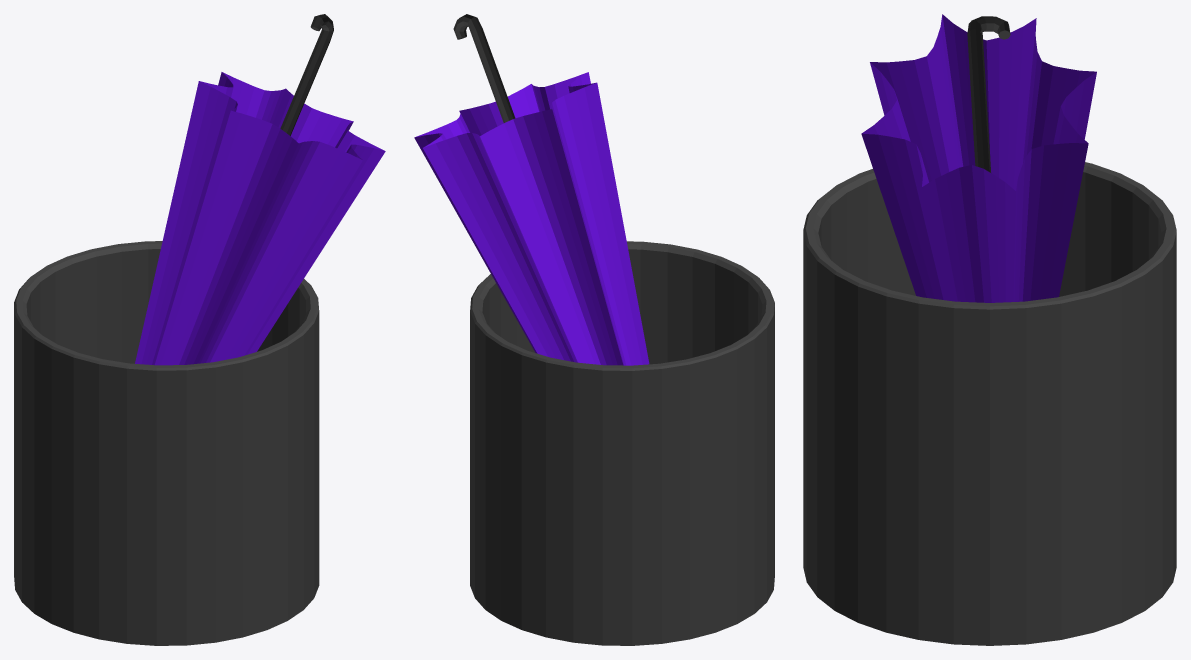
Rendered from GuardaChuva.fbx.
The picture shows the model from 3 angles, left to right: view 1: azimuth 30°, elevation 25°; view 2: azimuth 150°, elevation 25°; view 3: azimuth 270°, elevation 25°; orthographic projection. The views are drawn at different scales.
Visible parts, largest first — view 1: Balde, Guarda-Chuva; view 2: Balde, Guarda-Chuva; view 3: Balde, Guarda-Chuva.
Boxes of the visible parts, x1,y1,x2,y2 form: Balde: (14, 241, 319, 645); Guarda-Chuva: (135, 14, 385, 365); Balde: (470, 241, 774, 645); Guarda-Chuva: (414, 14, 649, 365); Balde: (803, 162, 1176, 645); Guarda-Chuva: (861, 14, 1096, 302).
Size of the model in its own units: 250 by 381 by 200.
